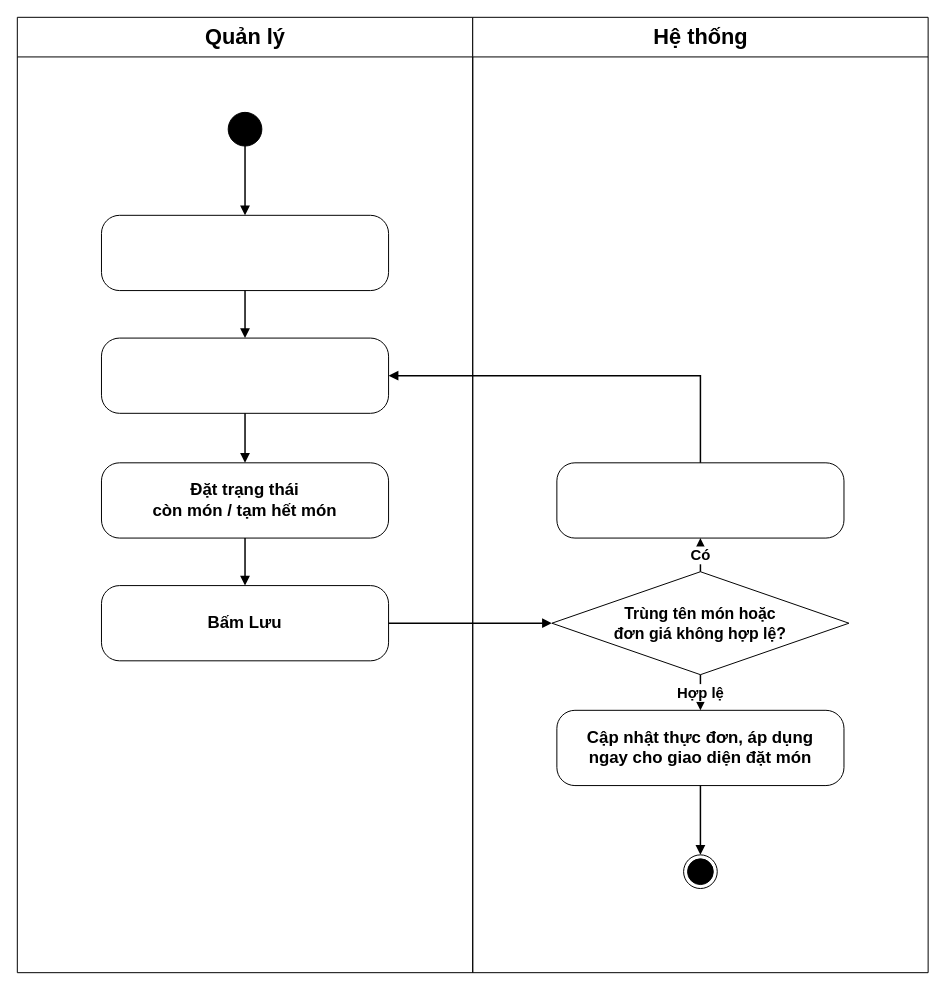
Image size: 945x990. Some labels were removed from this diagram. Each missing label, with the box of its shape:
Hiển thị cảnh báo, yêu cầu chỉnh sửa: (556, 462, 844, 538)
Mở danh mục thực đơn: (100, 214, 389, 291)
Thêm / sửa món: tên, mô tả, đơn giá, nhóm danh mục, Prep SLA: (100, 337, 389, 413)
